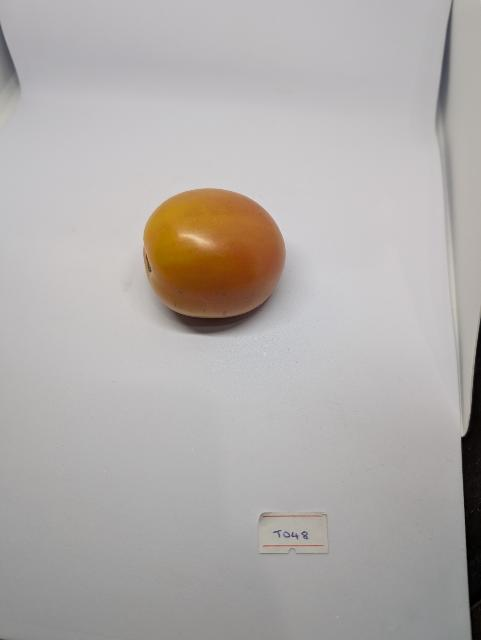turning: (139, 174, 304, 345)
